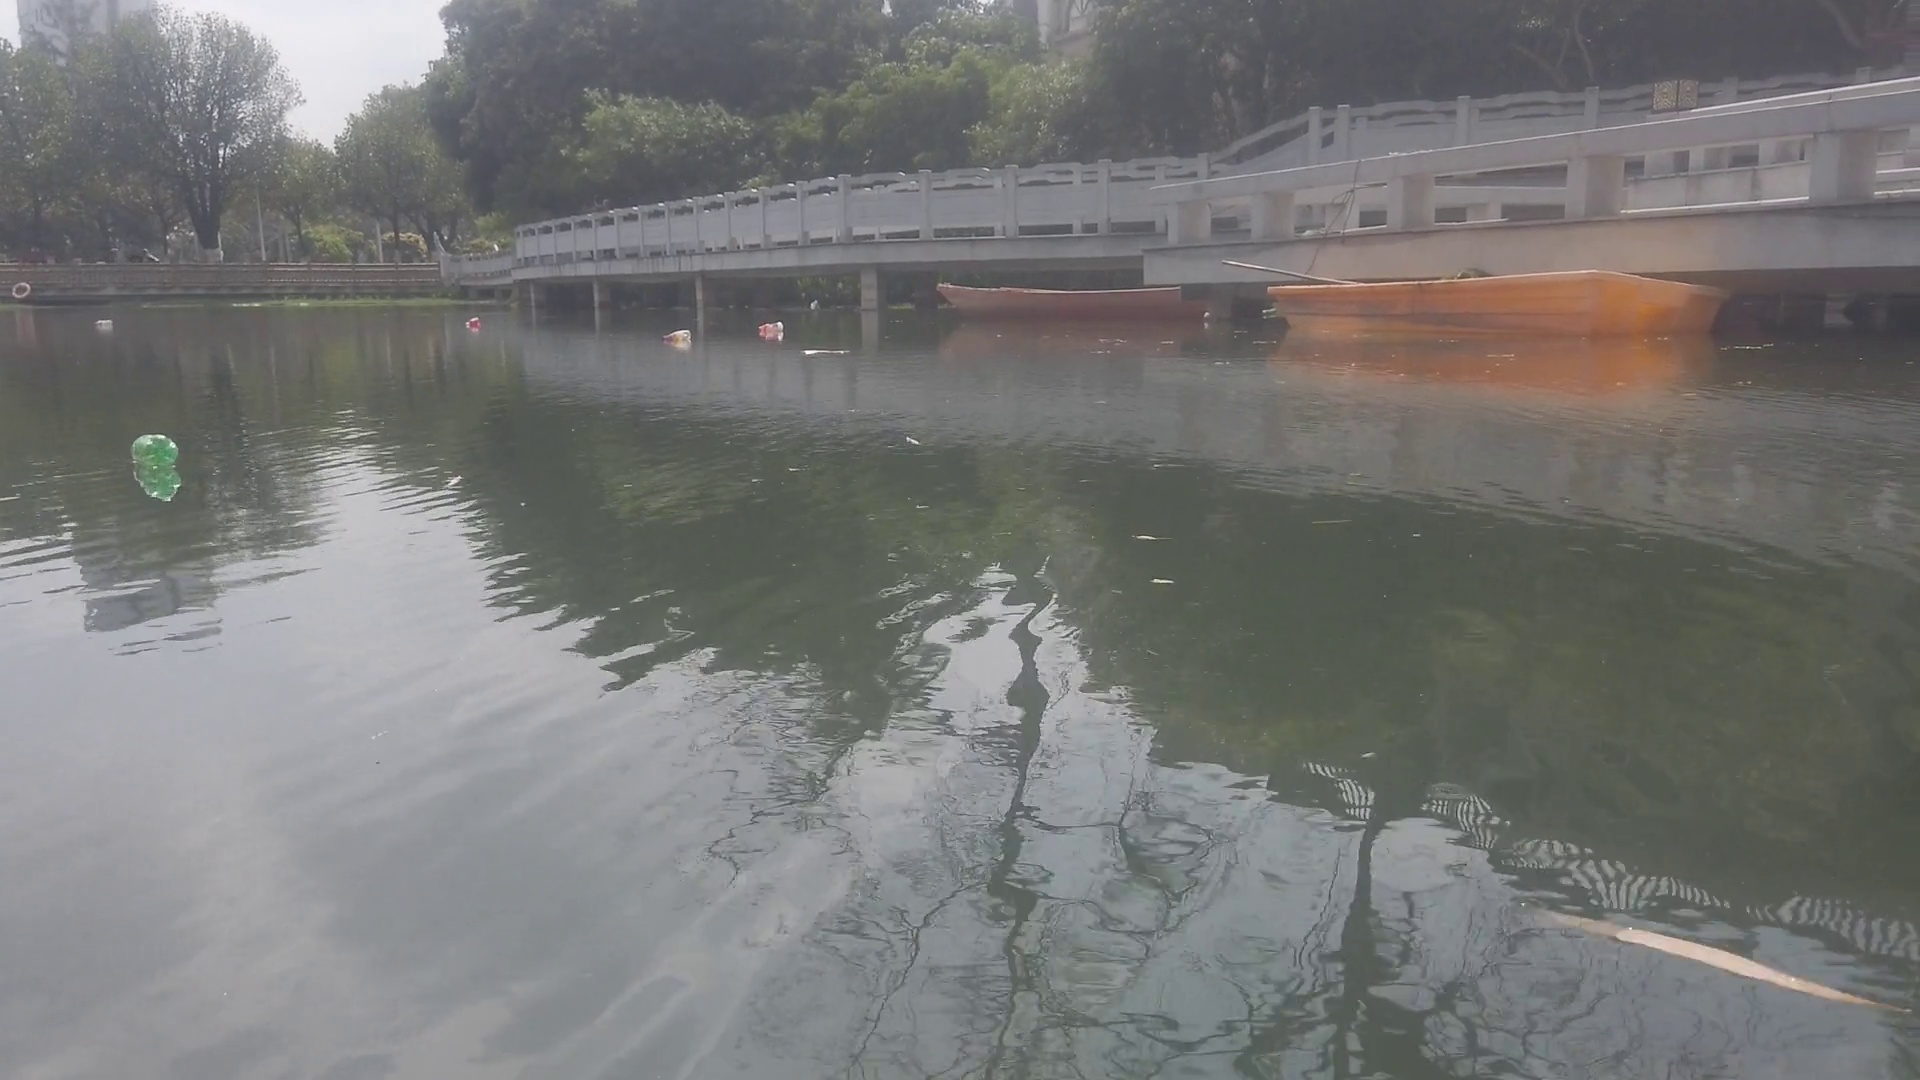bottle: (128, 433, 187, 467), (663, 324, 696, 347), (756, 319, 785, 332), (463, 314, 479, 332), (95, 316, 113, 326)
paper: (803, 347, 847, 355)
